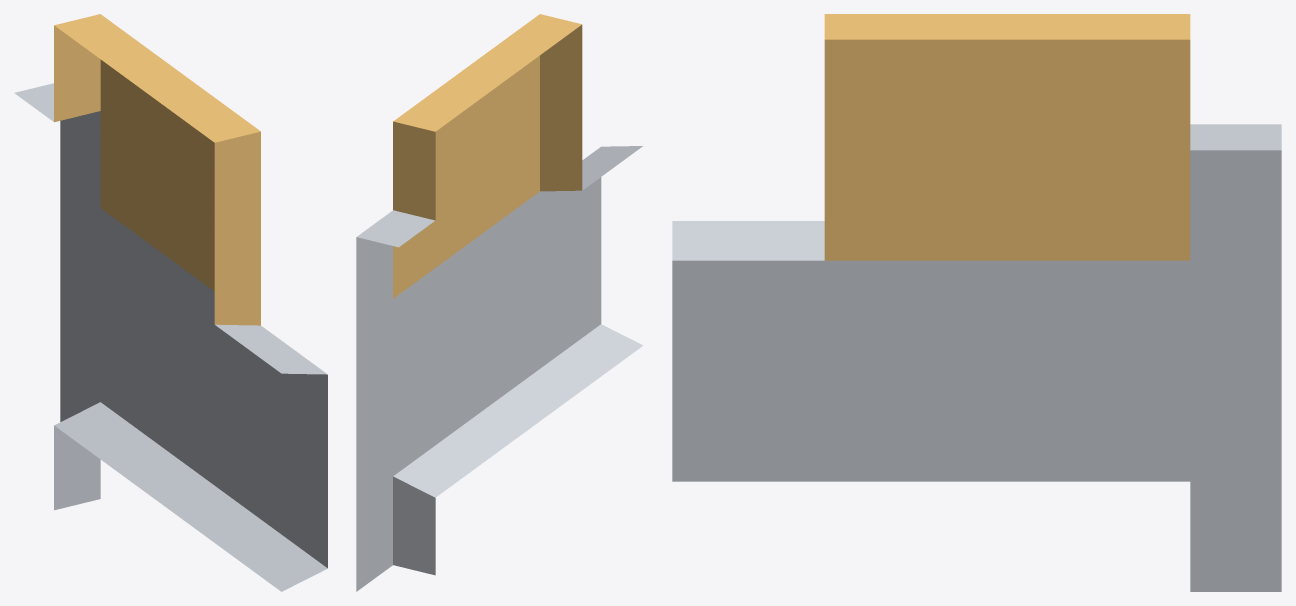
The picture shows the model from 3 angles, left to right: view 1: azimuth 30°, elevation 25°; view 2: azimuth 150°, elevation 25°; view 3: azimuth 270°, elevation 25°; orthographic projection. The views are drawn at different scales.
Size of the model in its own units: 0.1 by 1 by 1.
